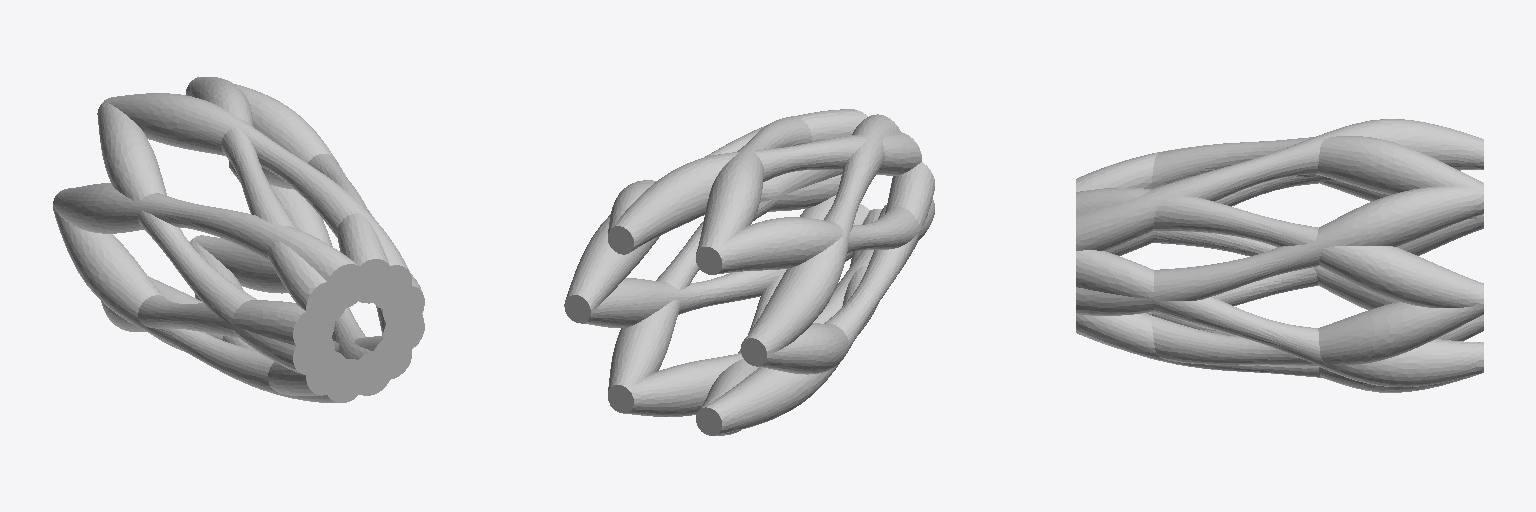
Rendered from substructure_test1.obj.
3 views of the same model, side by side, from view 1: azimuth 30°, elevation 25°; view 2: azimuth 150°, elevation 25°; view 3: azimuth 270°, elevation 25° (orthographic).
Size of the model in its own units: 97.55 by 101 by 148.